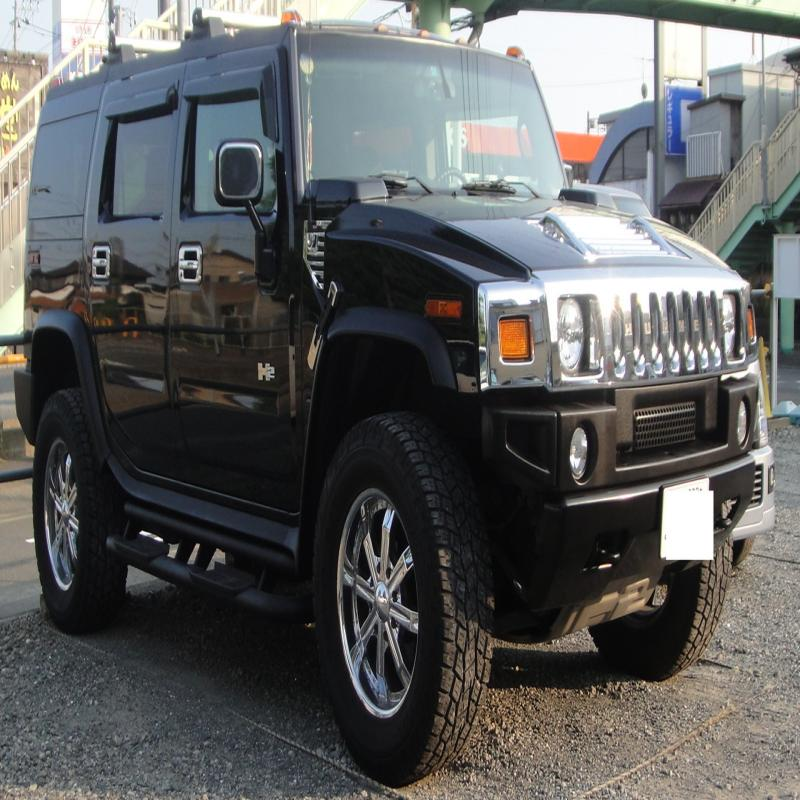car: (19, 25, 769, 757)
